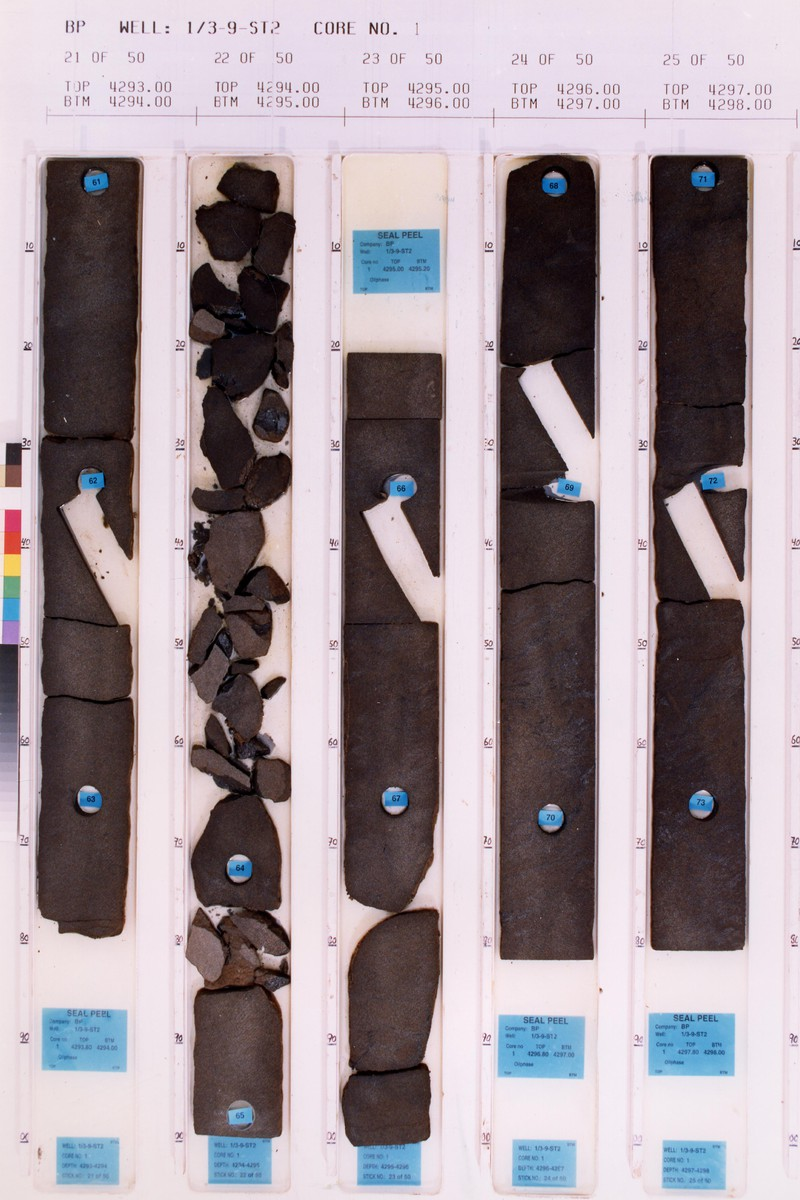core: (188, 157, 294, 1137), (36, 157, 139, 941), (497, 156, 597, 962), (647, 157, 747, 953), (344, 351, 439, 1143)
